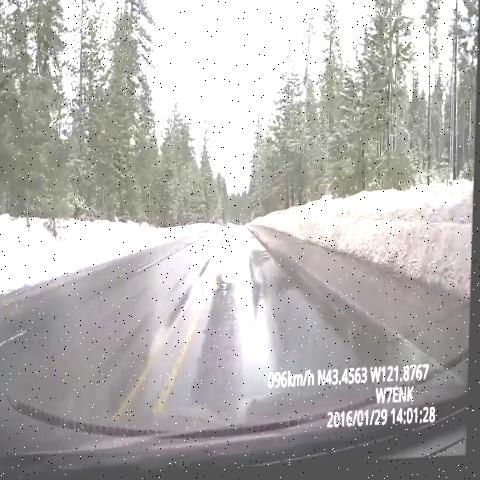pothole: (210, 276, 241, 328), (248, 228, 264, 247), (262, 246, 276, 265)
